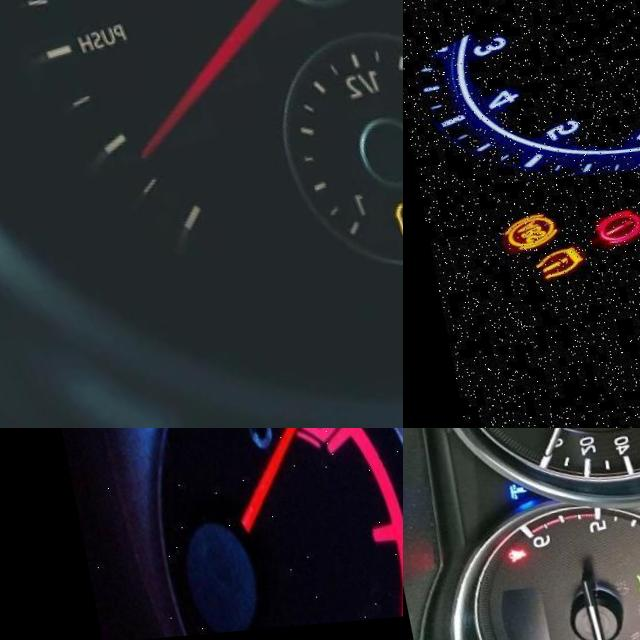Seat Belt: (487, 545, 509, 569)
